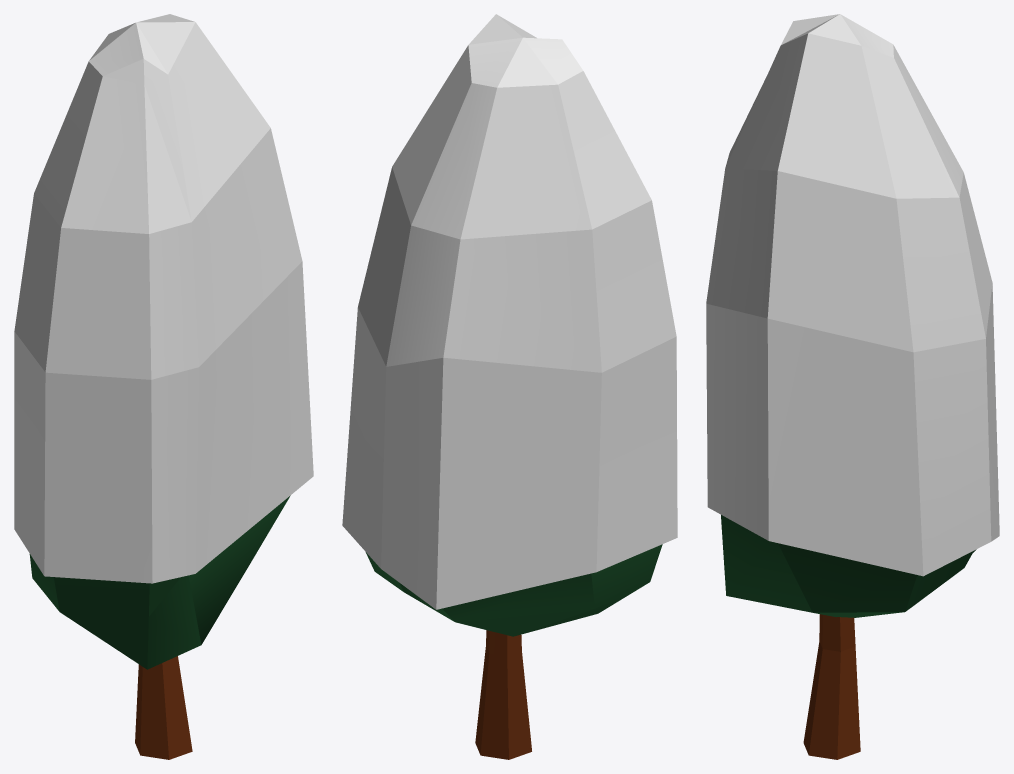
The model's file is Winter_004.fbx.
The picture shows the model from 3 angles, left to right: view 1: azimuth 30°, elevation 25°; view 2: azimuth 150°, elevation 25°; view 3: azimuth 270°, elevation 25°; orthographic projection.
Parts seen in each view (by area): view 1: Winter_004; view 2: Winter_004; view 3: Winter_004.
Boxes of the visible parts, <box> form: Winter_004: <box>14,14,313,759</box>; Winter_004: <box>342,14,677,759</box>; Winter_004: <box>706,14,999,759</box>.
Bounding box in the file's own units: 2.06 × 5.41 × 1.99.
